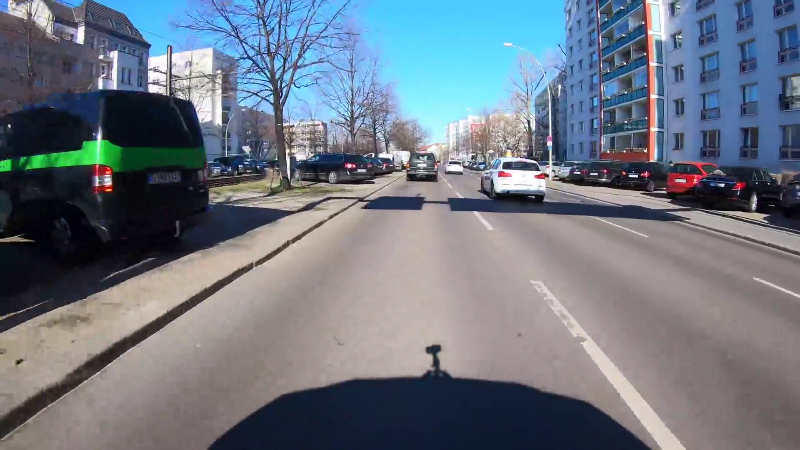Plate: (146, 169, 183, 183)
